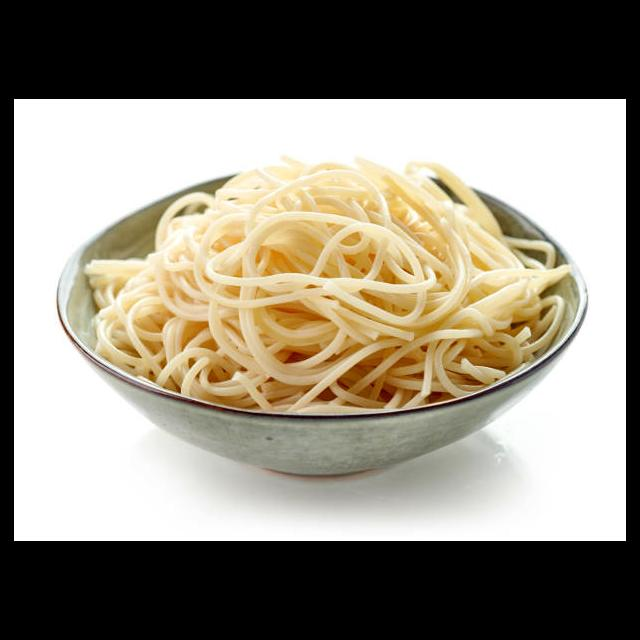noodles: (85, 149, 572, 412)
